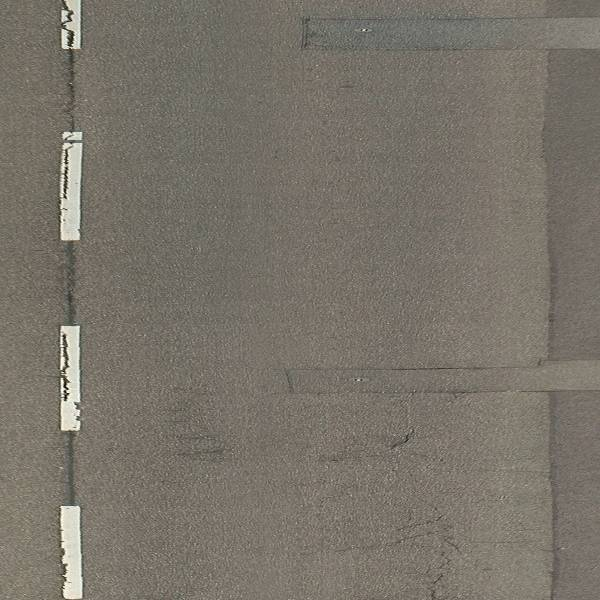road_damage: (272, 358, 600, 402), (295, 11, 600, 56), (416, 504, 458, 600), (384, 424, 424, 458)
